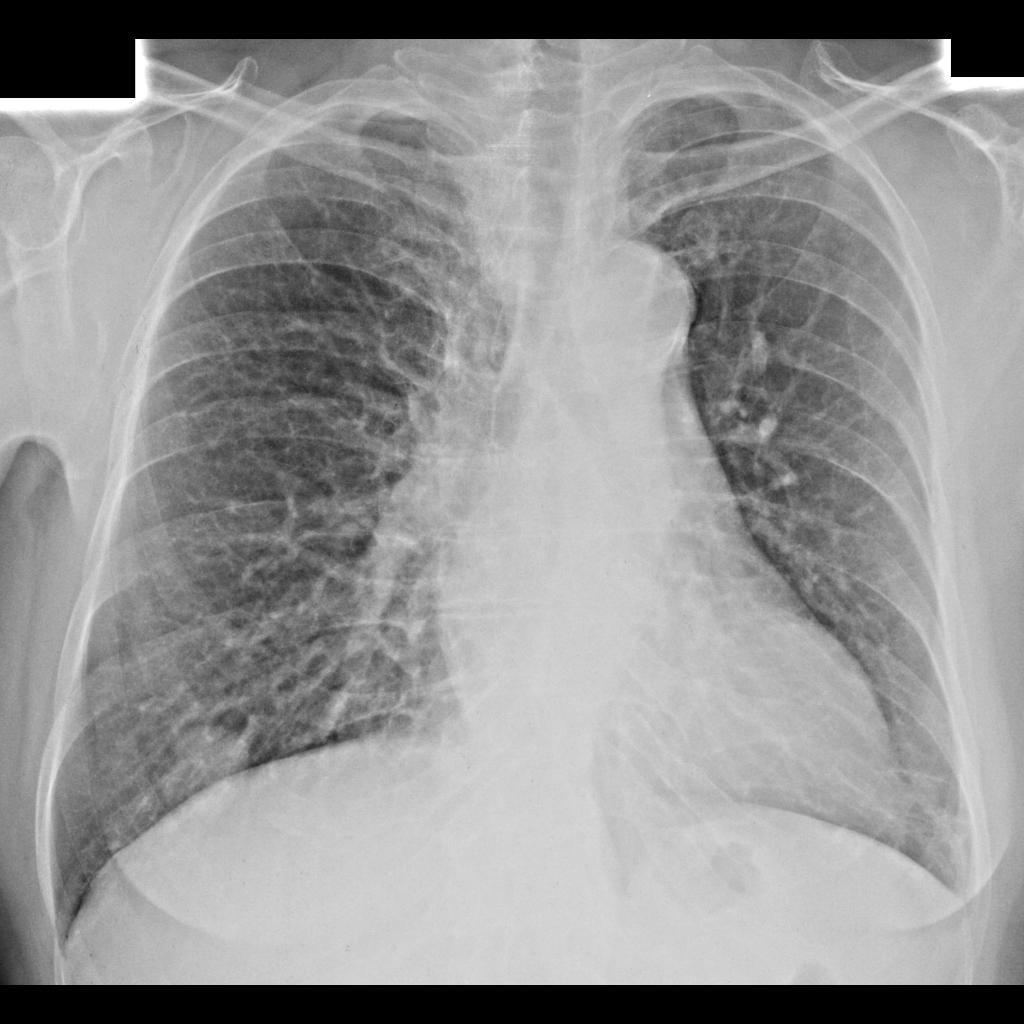Nodule: (157, 728, 254, 825)
